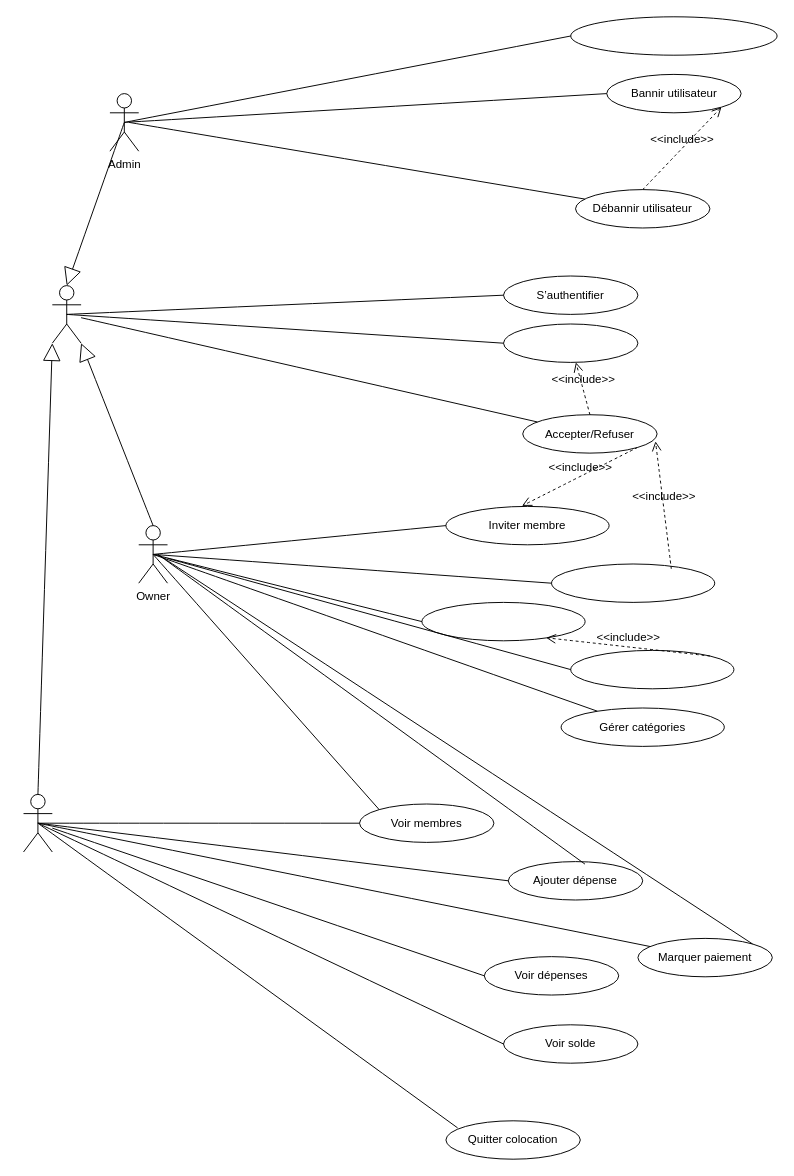
Some shapes in this 794 by 1176 pixel diagram are drawn without their labels. Here are the shapes that lost their labels. From the top down, the box of each, then its label:
(570, 16, 777, 55): Voir statistiques globales
(51, 285, 81, 343): User
(503, 323, 638, 362): Recevoir invitation
(551, 563, 715, 602): retirer membre
(421, 601, 585, 641): Créer colocation
(570, 649, 734, 689): Annuler colocation
(23, 793, 52, 852): Member
